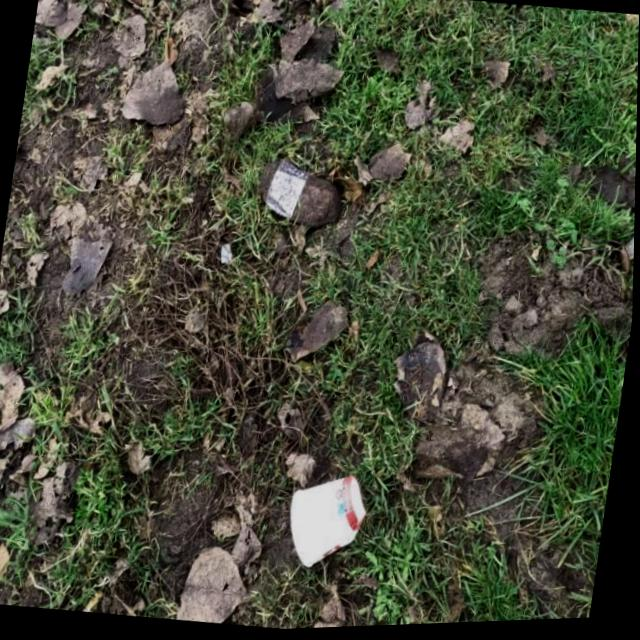Cup: (281, 463, 378, 579)
